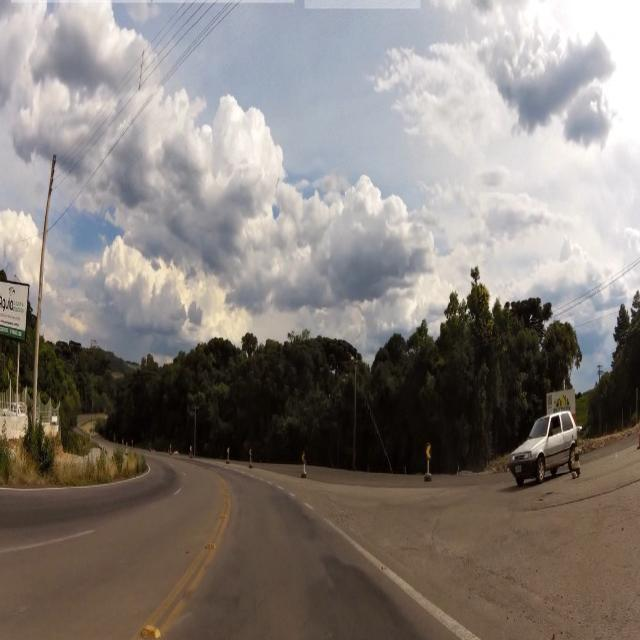Del: (426, 440, 434, 459)
